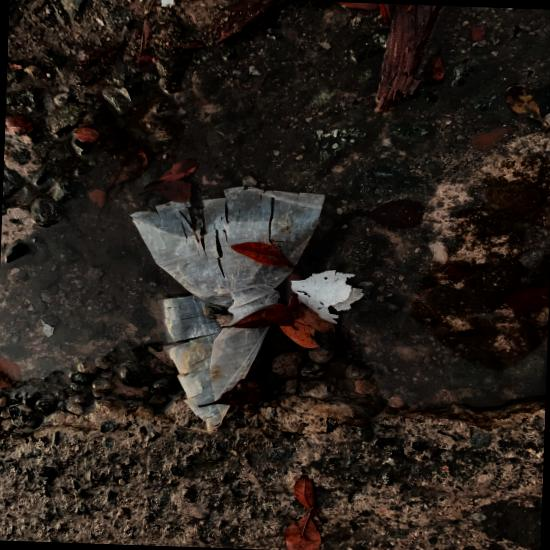Cigarette: (508, 394, 516, 403), (250, 241, 258, 250), (286, 246, 295, 252), (485, 191, 492, 198), (195, 218, 201, 225), (436, 92, 445, 96), (236, 226, 242, 232), (501, 135, 508, 139), (393, 20, 400, 24), (482, 187, 487, 192), (491, 155, 495, 161), (444, 60, 451, 63), (386, 32, 393, 35), (543, 115, 550, 118), (335, 57, 339, 62), (310, 50, 315, 54), (281, 77, 286, 81), (236, 251, 241, 255), (413, 50, 419, 53), (343, 47, 349, 50), (298, 51, 304, 54), (476, 95, 479, 100), (482, 71, 485, 75), (394, 14, 400, 16), (342, 38, 348, 40), (336, 49, 340, 52), (488, 81, 493, 83), (388, 14, 393, 16), (469, 115, 474, 117), (512, 89, 515, 92), (385, 37, 393, 38), (299, 45, 301, 49), (491, 66, 498, 67), (409, 29, 414, 30)
Drink can: (285, 204, 326, 244)
Pop tab: (317, 237, 325, 243)
Unlabeled litter: (199, 203, 212, 232)
